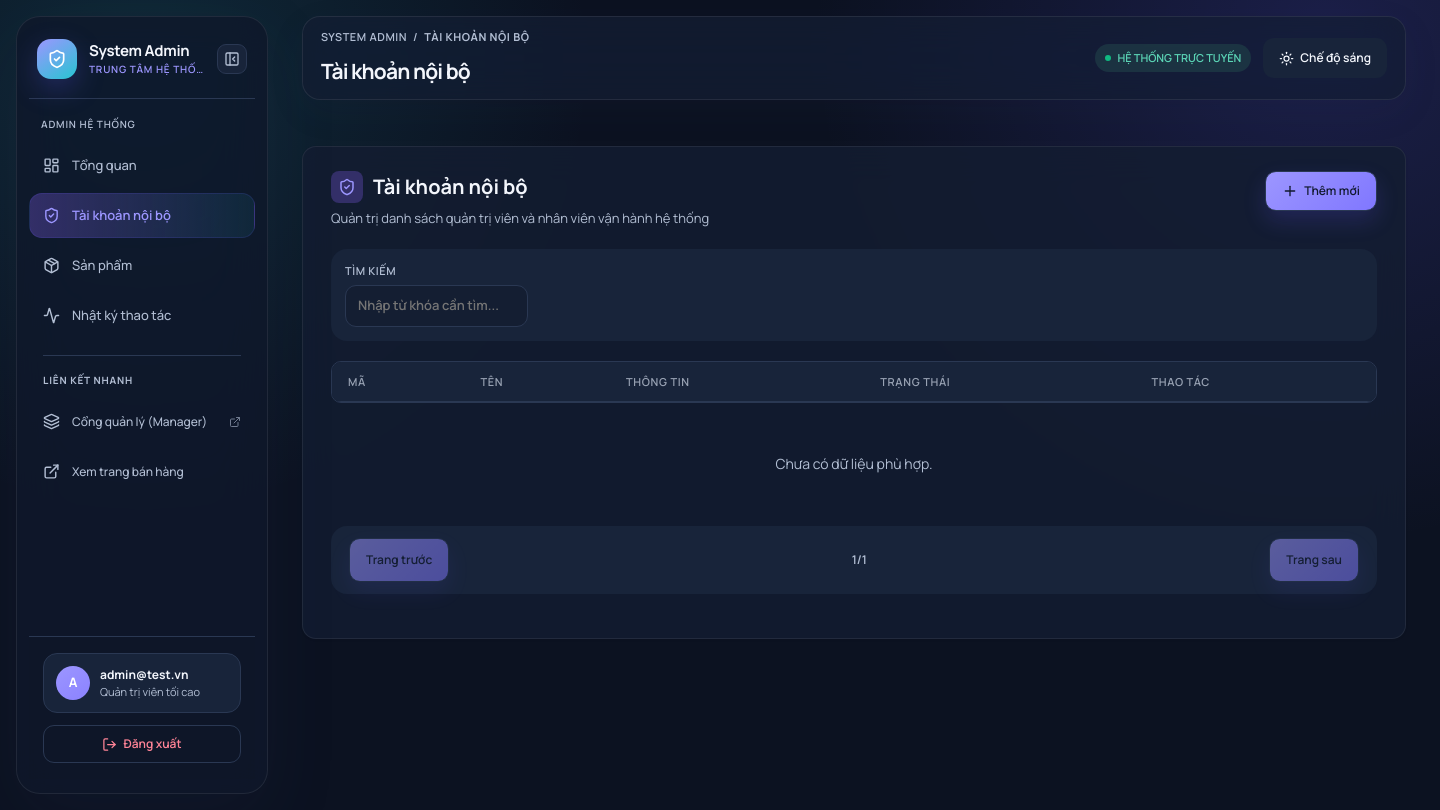
admin has only system navigation and accounts use admin APIs
Expected: the text "Chưa có dữ liệu phù hợp." is shown, [776,454,932,473]
Click the button "Thêm mới" at (1321, 191), box [1265,171,1377,211]
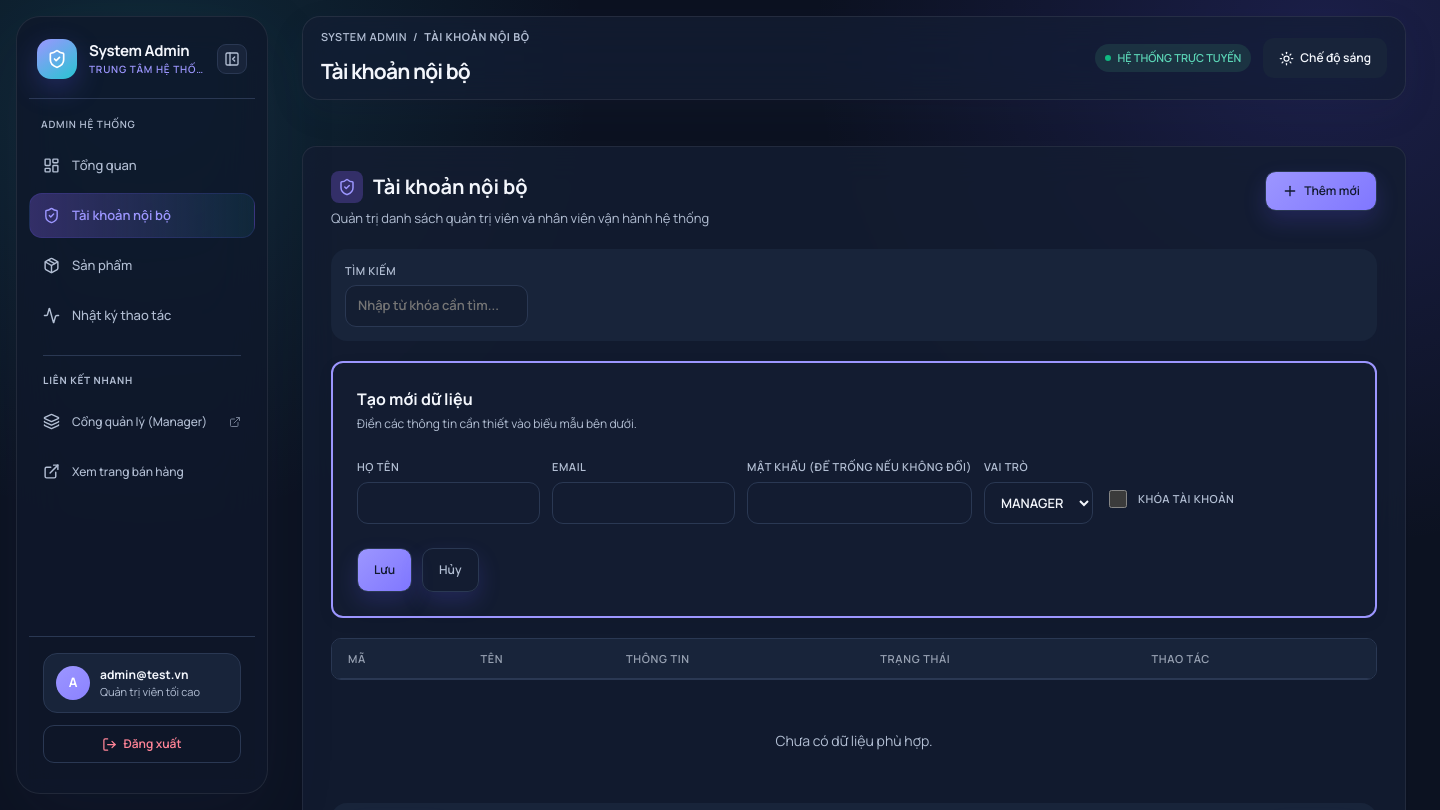
Result: the dropdown labelled "Vai trò" shows "MANAGER" at [984,482,1093,524]
